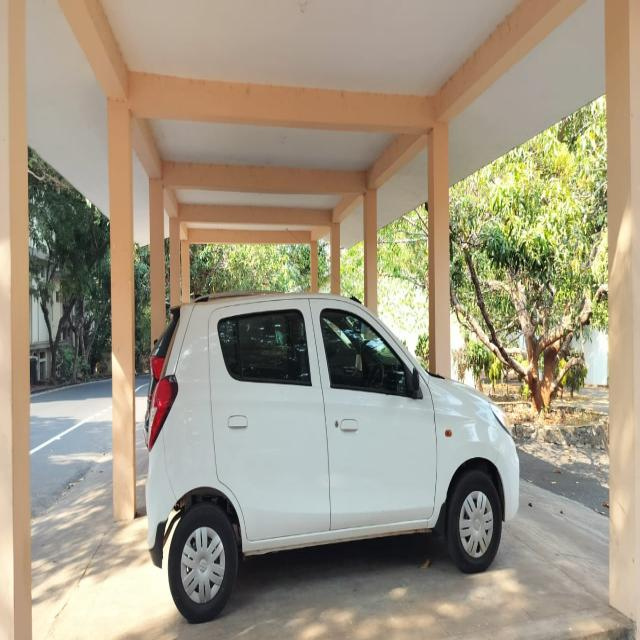car ahead at: (140, 295, 526, 620)
pillar ahead at: (106, 100, 139, 524), (428, 125, 453, 374)
